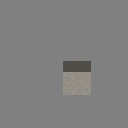supply_truck: (63, 61, 91, 95)
